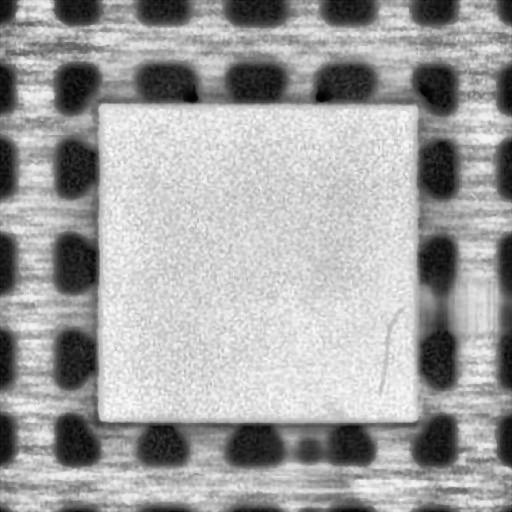DIE_CRACK: (374, 306, 404, 399)
